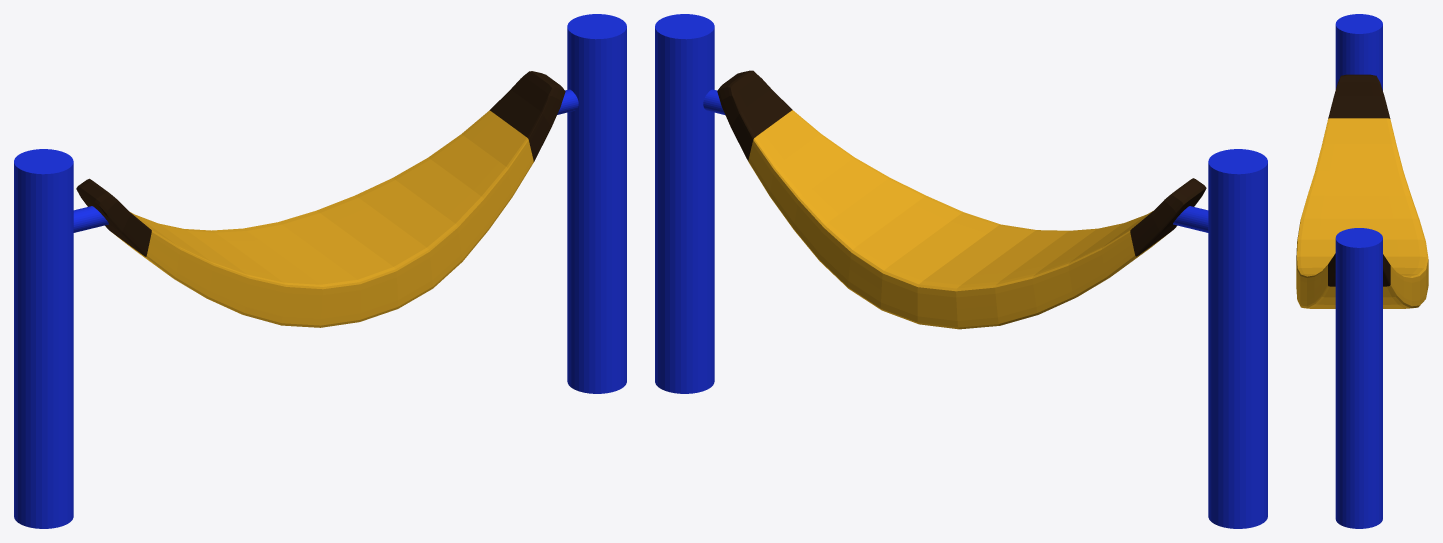
File: bananav001.fbx
3 views of the same model, side by side, from view 1: azimuth 30°, elevation 25°; view 2: azimuth 150°, elevation 25°; view 3: azimuth 270°, elevation 25° (orthographic). The views are drawn at different scales.
Visible parts, largest first — view 1: Cylinder, Cube, Cube.001; view 2: Cube, Cylinder, Cube.001; view 3: Cube, Cylinder.
Part boxes in pixels (x1=…): Cylinder: x1=14, y1=14, x2=626, y2=528; Cube: x1=76, y1=71, x2=565, y2=327; Cube.001: x1=73, y1=89, x2=578, y2=232; Cube: x1=717, y1=70, x2=1206, y2=329; Cylinder: x1=655, y1=14, x2=1267, y2=528; Cube.001: x1=703, y1=89, x2=1208, y2=232; Cube: x1=1296, y1=74, x2=1428, y2=308; Cylinder: x1=1335, y1=14, x2=1382, y2=528.
Bounding box in the file's own units: 14.65 × 8.21 × 3.51.
